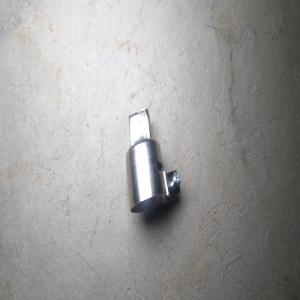MetalPart: (124, 106, 181, 213)
